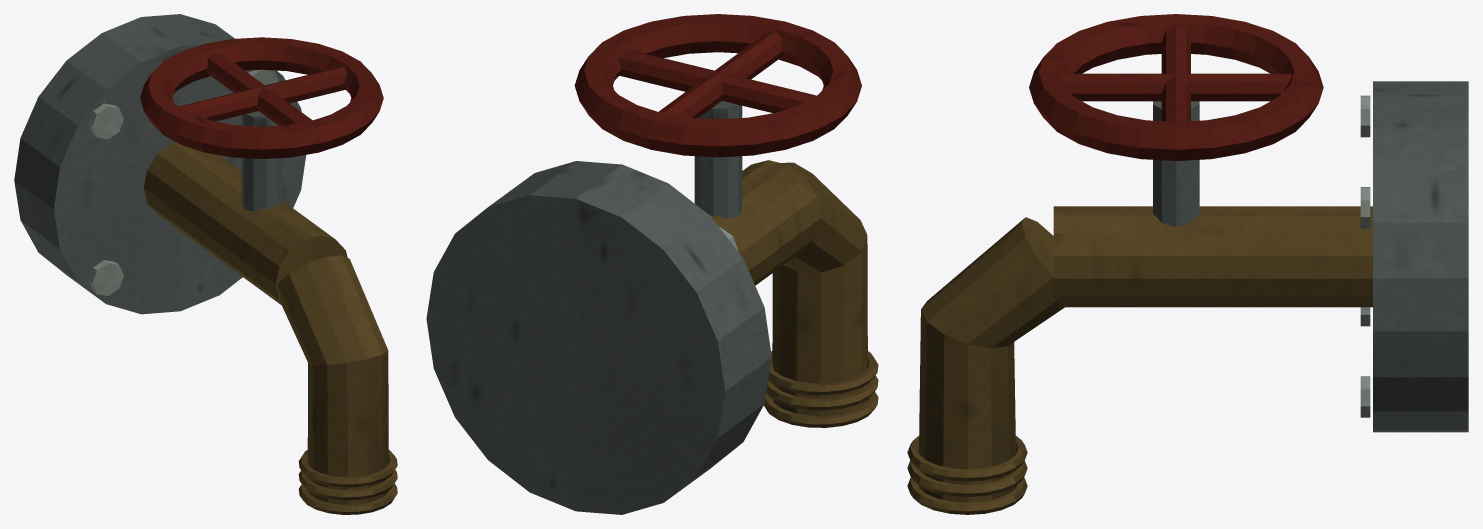
The model's file is wall_garden_spigot_reuse.glb.
3 renders of one model, left to right at view 1: azimuth 30°, elevation 25°; view 2: azimuth 150°, elevation 25°; view 3: azimuth 270°, elevation 25°, orthographic. The views are drawn at different scales.
Visible parts, largest first — view 1: wall_garden_spigot; view 2: wall_garden_spigot; view 3: wall_garden_spigot.
Boxes of the visible parts, <box> form: wall_garden_spigot: <box>14,14,397,514</box>; wall_garden_spigot: <box>426,14,878,514</box>; wall_garden_spigot: <box>907,14,1468,514</box>.
Bounding box in the file's own units: 0.144 × 0.1881 × 0.2285.
Materials: 1 (1 with a texture image).
